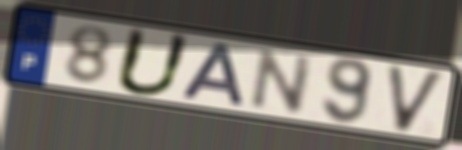8: (63, 24, 115, 86)
9: (318, 55, 374, 129)
A: (178, 41, 248, 110)
N: (245, 47, 318, 116)
U: (111, 24, 196, 99)
V: (383, 62, 449, 137)
